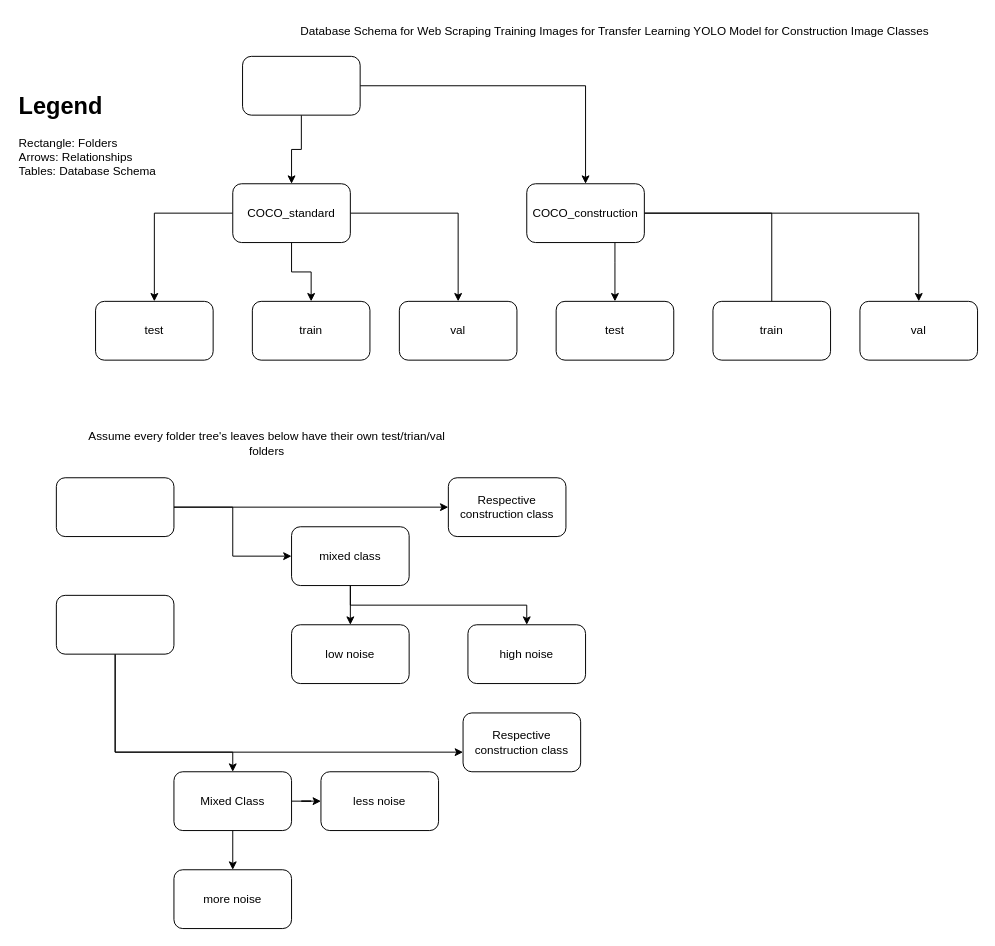
The diagram is 995 pixels wide and 946 high, and some of its shapes have lost their labels. Here are the shapes that lost their labels. From the top down, the centre of each, then its label:
point 301,85: COCO
point 114,507: Mined
point 114,624: Generated
